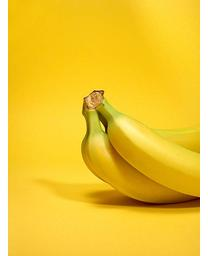banana: (80, 89, 201, 203)
